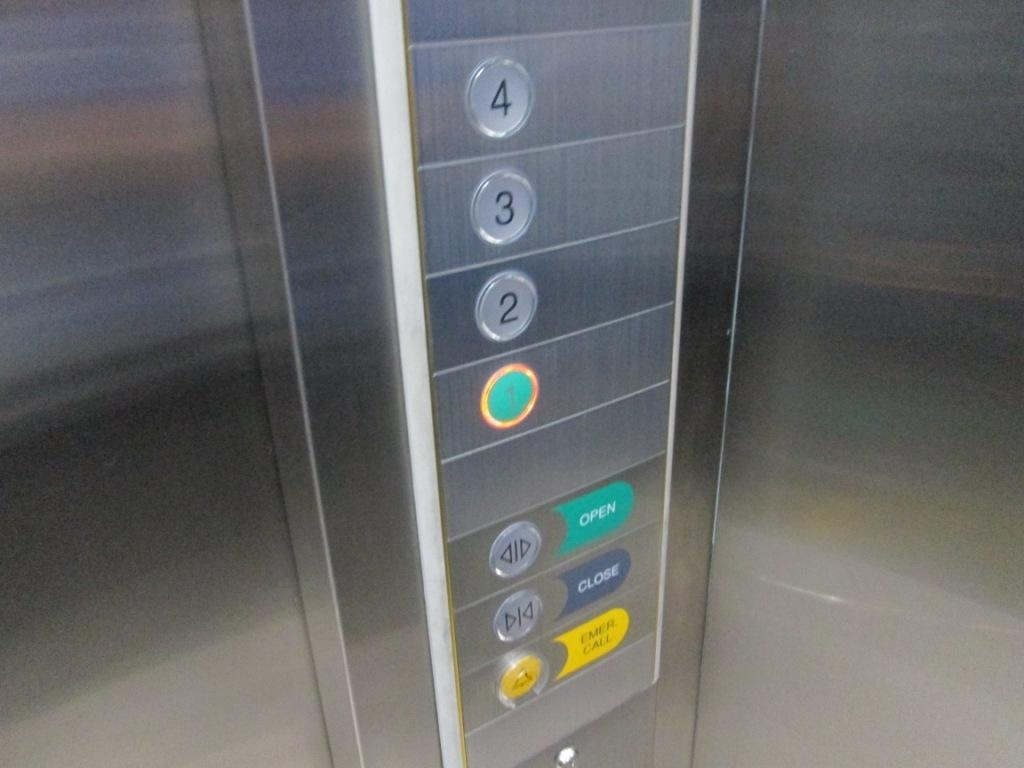1: (478, 362, 541, 433)
2: (472, 270, 538, 344)
3: (468, 165, 538, 247)
4: (462, 55, 538, 141)
alarm: (495, 650, 549, 709)
close: (492, 587, 544, 643)
open: (487, 520, 544, 580)
